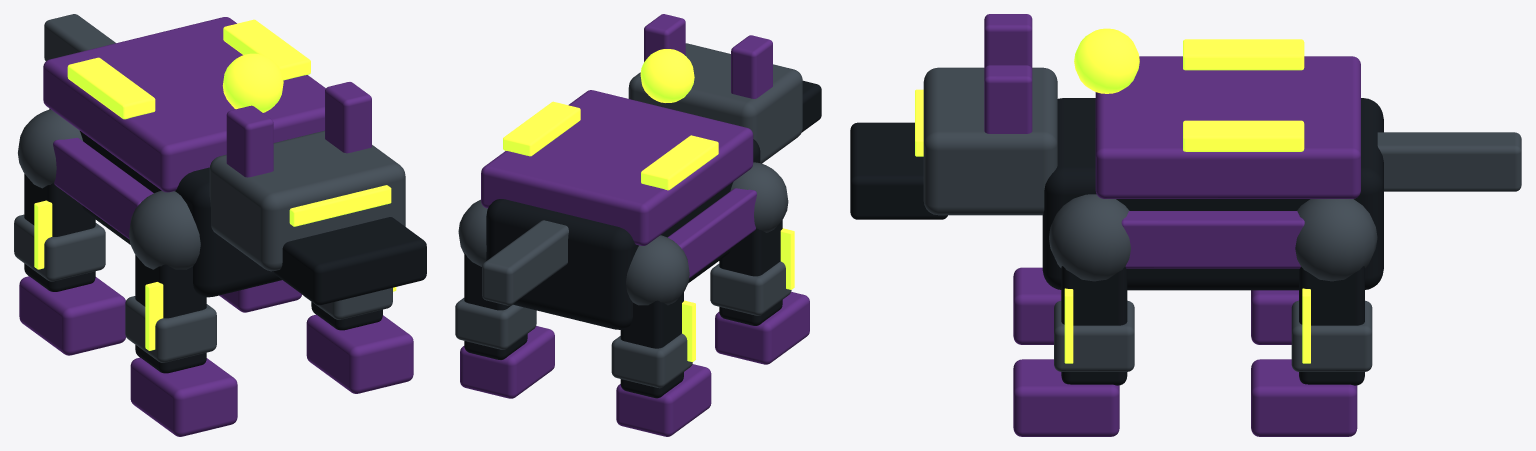
File: hound_l05.glb
3 renders of one model, left to right at view 1: azimuth 30°, elevation 25°; view 2: azimuth 150°, elevation 25°; view 3: azimuth 270°, elevation 25°, orthographic. The views are drawn at different scales.
Visible parts, largest first — view 1: dorsal_plating, armoured_paw (×4), hound_head, muzzle, reinforced_knee (×3), hip_joint (×2), servo_leg (×3), ear_array (×2), hound_core, elite_tracking_light (×2), flank_plate, apex_sensor (+3 smaller); view 2: dorsal_plating, armoured_paw (×3), hound_core, reinforced_knee (×3), hound_head, servo_leg (×3), hip_joint (×3), tail, elite_tracking_light (×2), flank_plate, ear_array (×2), apex_sensor (+2 smaller); view 3: dorsal_plating, armoured_paw (×4), hound_head, hound_core, hip_joint (×2), flank_plate, tail, elite_tracking_light (×2), servo_leg (×2), reinforced_knee (×2), muzzle, ear_array (×2) (+2 smaller).
Part boxes in pixels (left/top/right/bottom): dorsal_plating: left=43, top=17, right=325, bottom=192; armoured_paw (×4): left=19, top=276, right=413, bottom=436; hound_head: left=209, top=130, right=405, bottom=271; muzzle: left=273, top=217, right=426, bottom=305; reinforced_knee (×3): left=14, top=214, right=392, bottom=362; hip_joint (×2): left=18, top=109, right=200, bottom=269; servo_leg (×3): left=24, top=173, right=382, bottom=373; ear_array (×2): left=226, top=82, right=371, bottom=177; hound_core: left=49, top=108, right=281, bottom=297; elite_tracking_light (×2): left=67, top=19, right=310, bottom=119; flank_plate: left=53, top=137, right=153, bottom=239; apex_sensor: left=222, top=53, right=283, bottom=112; dorsal_plating: left=481, top=90, right=753, bottom=245; armoured_paw (×3): left=460, top=292, right=809, bottom=436; hound_core: left=486, top=139, right=760, bottom=329; reinforced_knee (×3): left=455, top=261, right=791, bottom=388; hound_head: left=628, top=43, right=802, bottom=163; servo_leg (×3): left=464, top=220, right=782, bottom=398; hip_joint (×3): left=458, top=162, right=788, bottom=305; tail: left=482, top=220, right=568, bottom=305; elite_tracking_light (×2): left=503, top=101, right=718, bottom=190; flank_plate: left=667, top=188, right=756, bottom=278; ear_array (×2): left=644, top=14, right=772, bottom=98; apex_sensor: left=640, top=49, right=694, bottom=102; dorsal_plating: left=1095, top=56, right=1360, bottom=198; armoured_paw (×4): left=1013, top=267, right=1357, bottom=436; hound_head: left=923, top=67, right=1057, bottom=215; hound_core: left=1042, top=98, right=1383, bottom=290; hip_joint (×2): left=1049, top=194, right=1377, bottom=281; flank_plate: left=1121, top=211, right=1304, bottom=268; tail: left=1377, top=132, right=1521, bottom=191; elite_tracking_light (×2): left=1183, top=39, right=1304, bottom=151; servo_leg (×2): left=1061, top=266, right=1364, bottom=385; reinforced_knee (×2): left=1054, top=300, right=1372, bottom=371; muzzle: left=850, top=122, right=947, bottom=219; ear_array (×2): left=984, top=14, right=1032, bottom=133.
Size of the model in its own units: 1.22 by 1.51 by 2.66.
